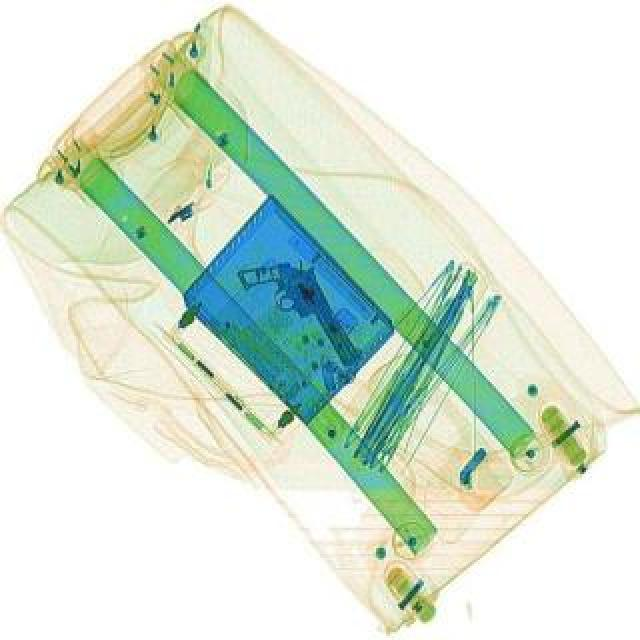gun: (234, 242, 360, 388)
